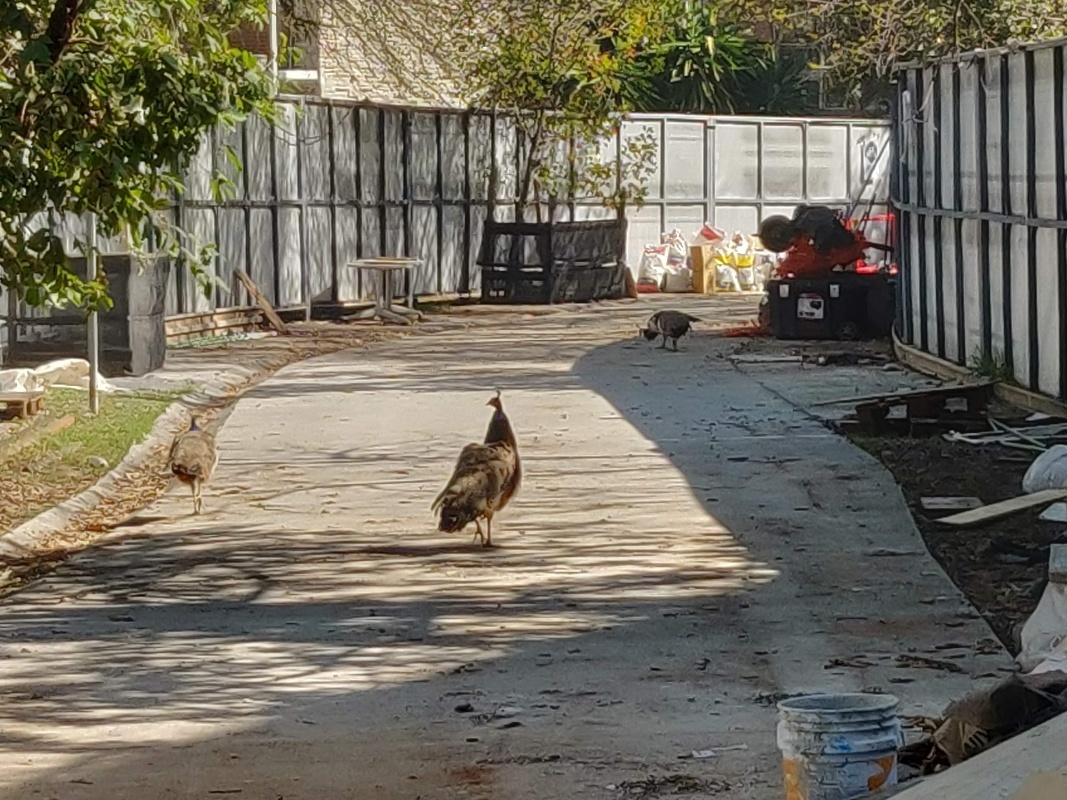pavoreal: (439, 386, 521, 543), (179, 411, 220, 502), (637, 305, 697, 350)
